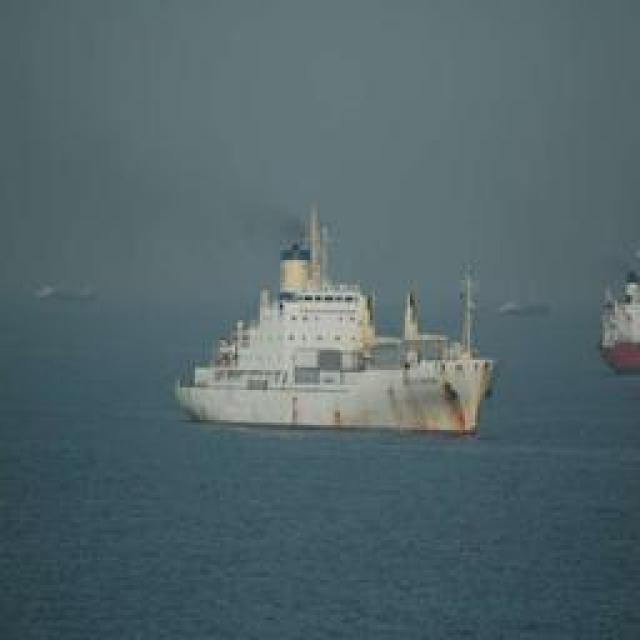Ship: (176, 206, 499, 436)
